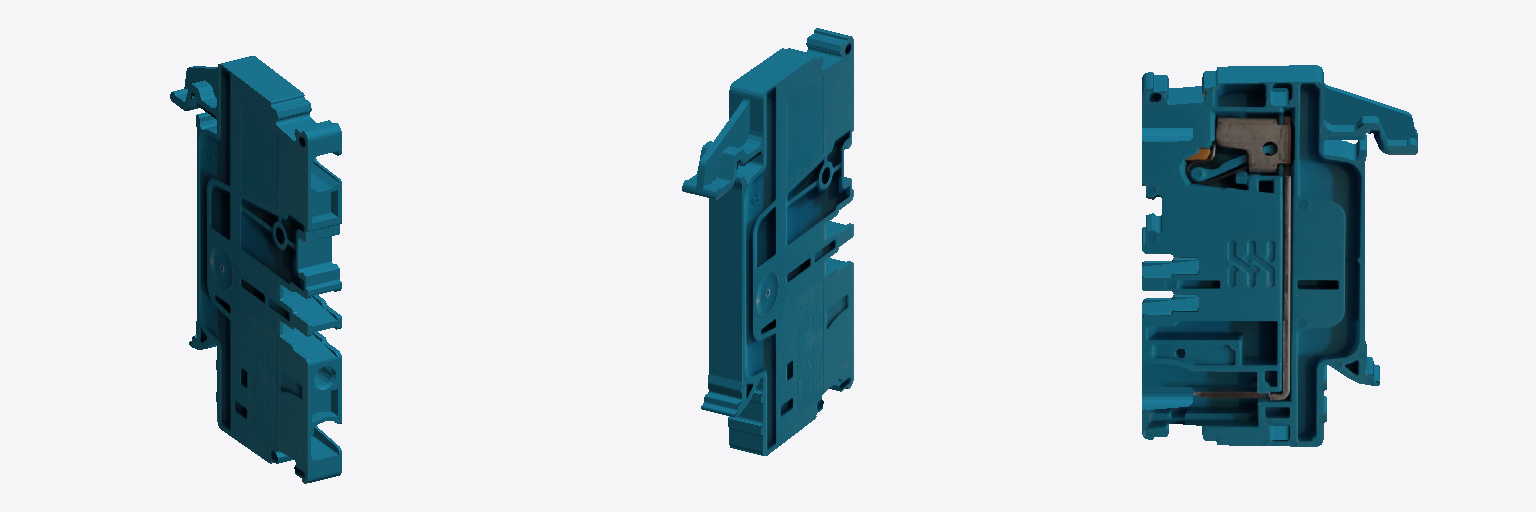
The picture shows the model from 3 angles: view 1: azimuth 30°, elevation 25°; view 2: azimuth 150°, elevation 25°; view 3: azimuth 270°, elevation 25°; orthographic projection.
Parts seen in each view (by area): view 1: W_QS_Main_1; view 2: W_QS_Main_1; view 3: W_QS_Main_1.
Boxes of the visible parts, <box> form: W_QS_Main_1: <box>170,56,341,483</box>; W_QS_Main_1: <box>682,28,853,455</box>; W_QS_Main_1: <box>1142,65,1417,446</box>.
Bounding box in the file's own units: 0.0051 × 0.0527 × 0.036.
Materials: 1 (1 with a texture image).